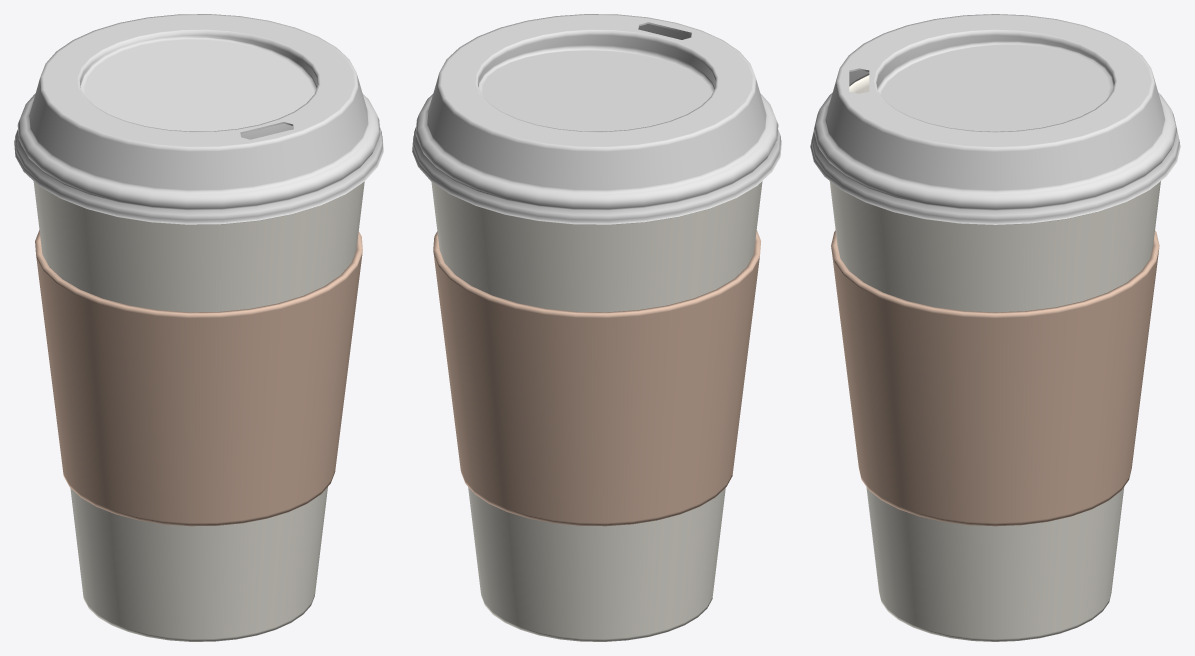
Rendered from coffee cup.fbx.
The picture shows the model from 3 angles, left to right: view 1: azimuth 30°, elevation 25°; view 2: azimuth 150°, elevation 25°; view 3: azimuth 270°, elevation 25°; orthographic projection.
Parts seen in each view (by area): view 1: Sleeve, Lid, Cup; view 2: Sleeve, Lid, Cup; view 3: Sleeve, Lid, Cup.
Part boxes in pixels (bbox=[...]): Sleeve: bbox=[35, 230, 362, 526]; Lid: bbox=[14, 14, 383, 224]; Cup: bbox=[33, 181, 364, 641]; Sleeve: bbox=[433, 230, 760, 526]; Lid: bbox=[412, 14, 781, 224]; Cup: bbox=[431, 181, 762, 641]; Sleeve: bbox=[831, 230, 1159, 526]; Lid: bbox=[810, 14, 1180, 225]; Cup: bbox=[829, 75, 1160, 641].
Bounding box in the file's own units: 319 × 486 × 319.
